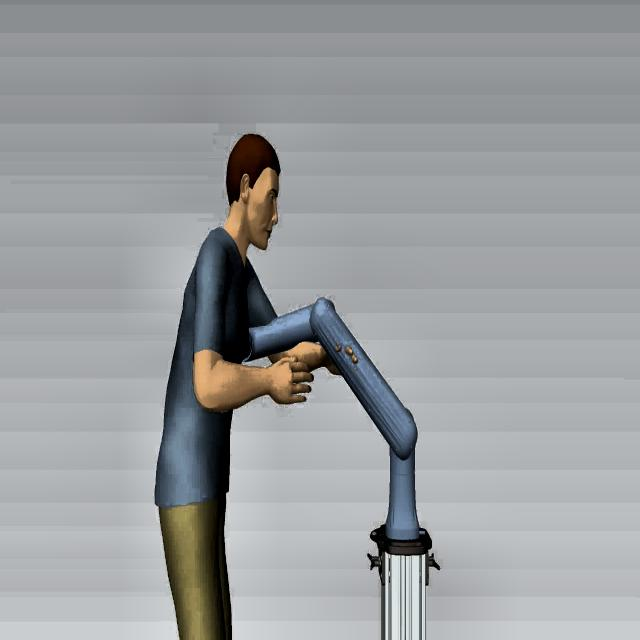robot: (240, 294, 441, 556)
